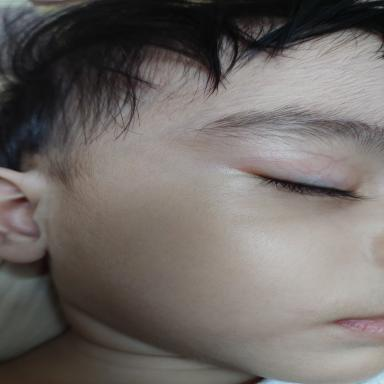normal skin: (1, 35, 383, 384)
